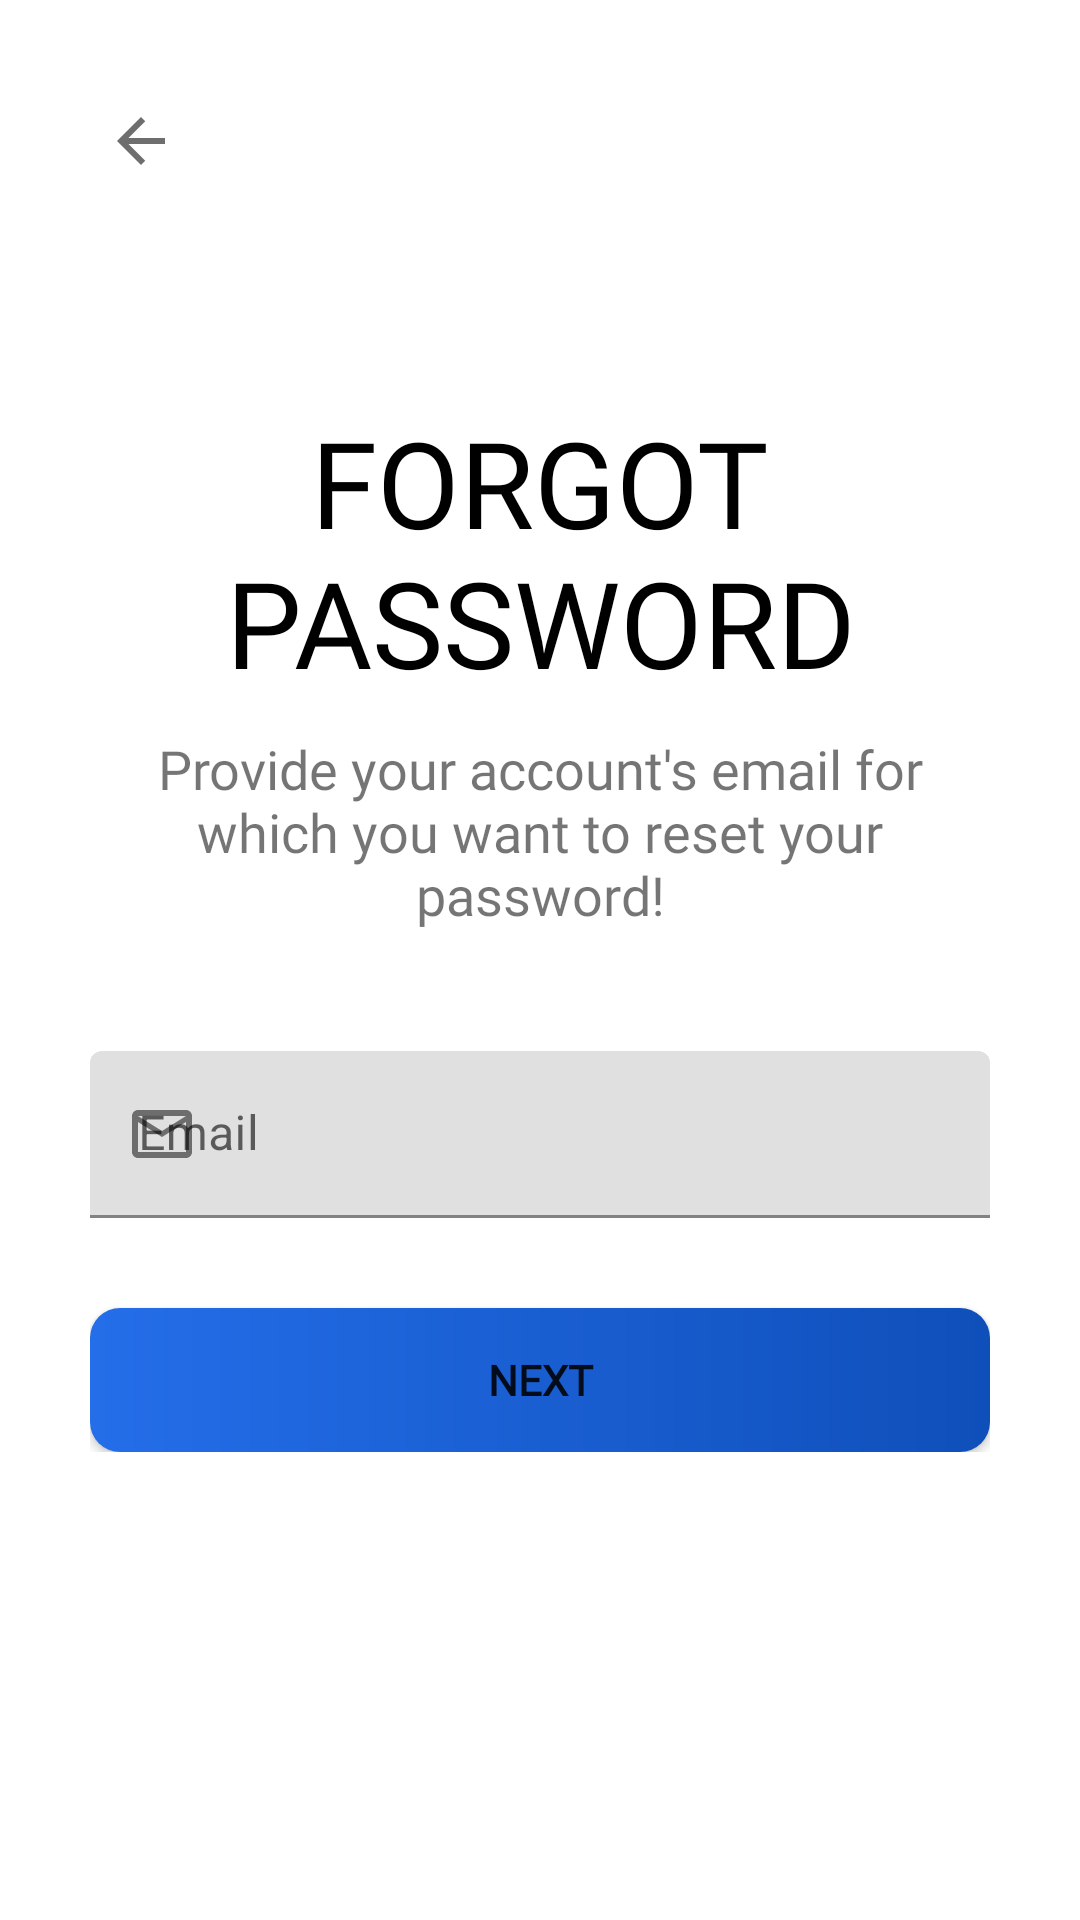

Icons on this 1080 × 1920 Android screen, each with its box as (left=x1, top=y1, right=x2, bottom=y2):
arrow back: (left=117, top=117, right=165, bottom=165)
